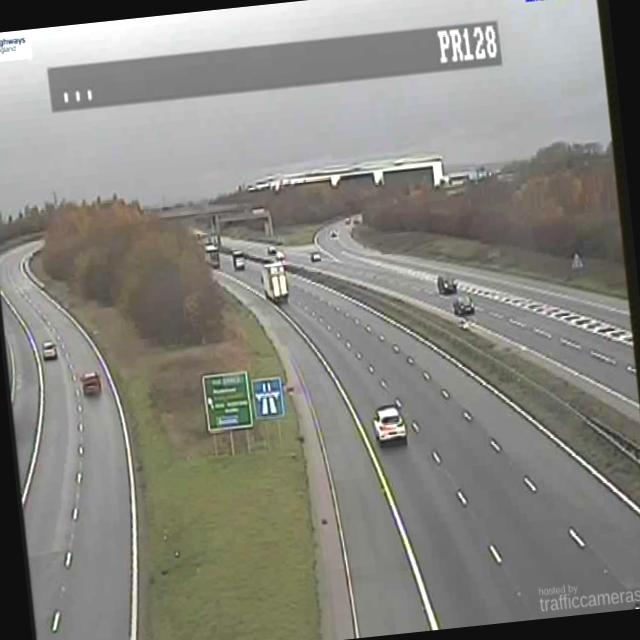foliage: (41, 202, 220, 346), (372, 160, 622, 263)
